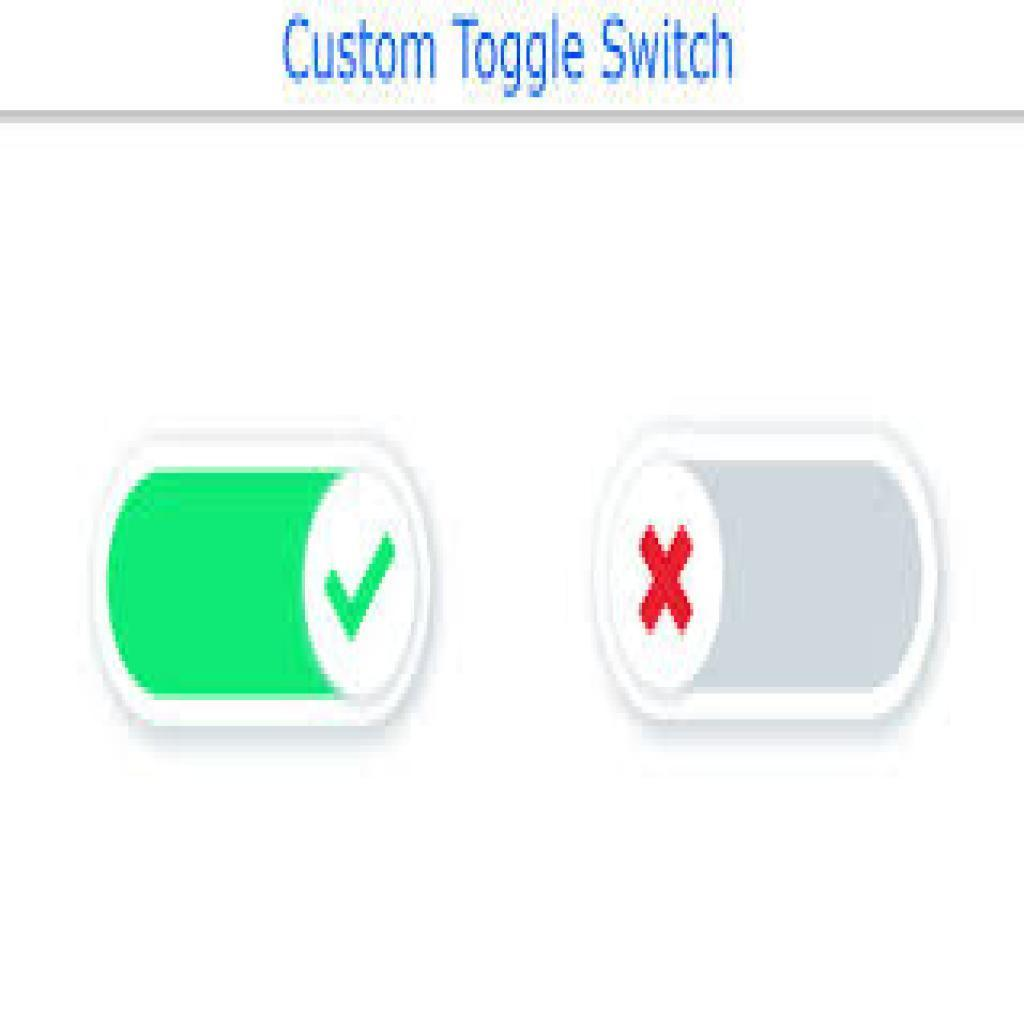switch: (94, 432, 455, 738), (595, 433, 951, 731)
